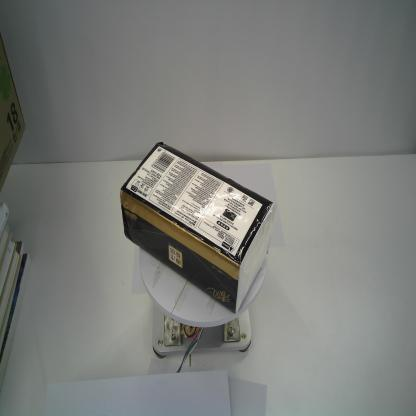Tissue: (118, 140, 276, 316)
